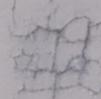fissura: (8, 0, 101, 98)
